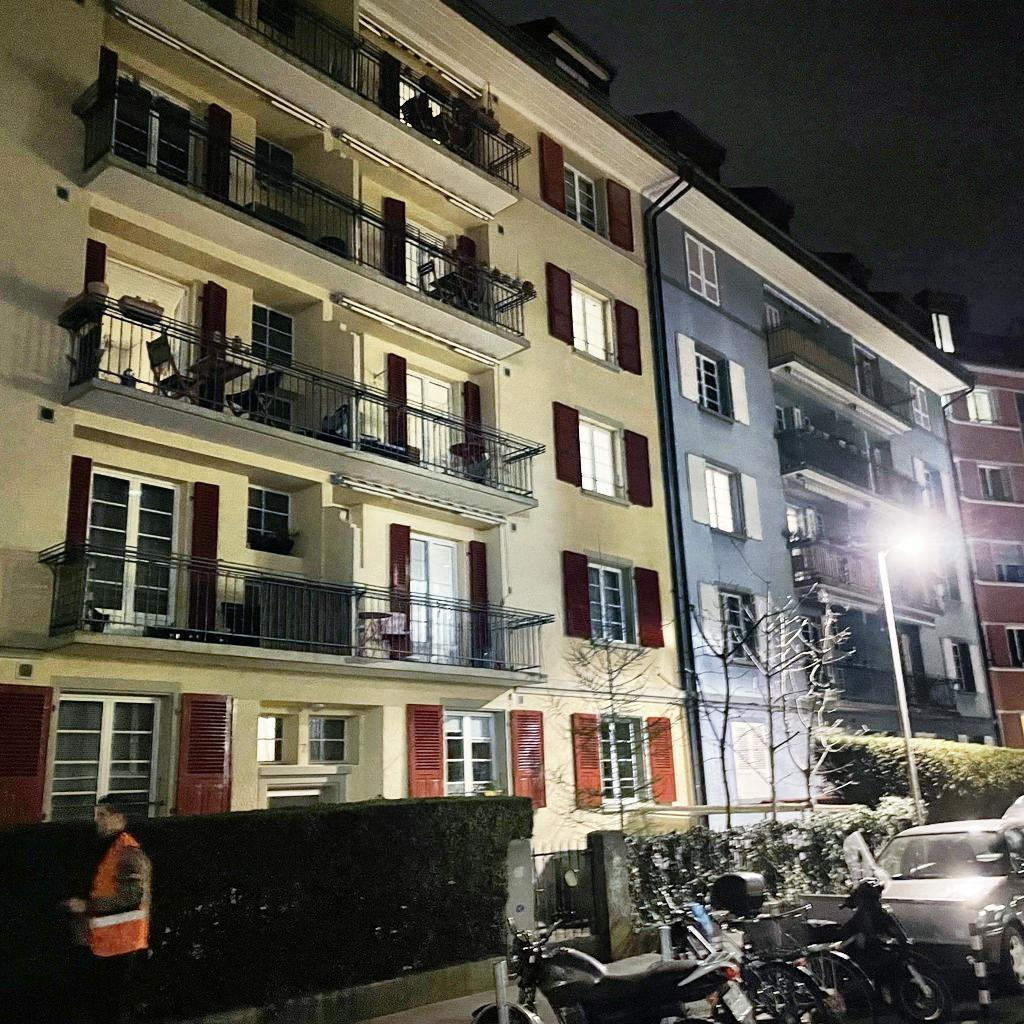balcony-fence: (71, 71, 539, 339), (57, 291, 546, 501), (36, 536, 556, 676), (199, 0, 533, 198), (765, 322, 917, 430), (776, 427, 922, 513), (788, 539, 946, 616), (805, 657, 956, 711)
car: (850, 820, 1024, 1002)
fence: (177, 828, 686, 1024)
street: (360, 919, 1024, 1024)
vegetation: (529, 525, 1024, 932), (0, 793, 534, 1024)
window: (77, 465, 181, 638), (49, 690, 161, 820), (98, 255, 191, 402), (111, 72, 192, 188), (410, 539, 459, 664), (407, 370, 456, 475), (445, 710, 497, 796), (400, 78, 454, 150), (406, 234, 454, 305), (249, 300, 295, 374), (247, 483, 293, 555), (579, 420, 619, 498), (254, 133, 296, 200), (571, 283, 606, 362), (685, 231, 720, 308), (706, 461, 740, 539), (564, 160, 597, 234), (719, 590, 749, 661), (308, 717, 347, 763), (695, 350, 722, 414), (802, 616, 826, 684), (257, 0, 295, 39), (256, 715, 285, 765), (976, 464, 1009, 500), (930, 311, 956, 354), (910, 381, 931, 432), (243, 581, 262, 637), (785, 502, 804, 556), (965, 389, 994, 424), (1006, 626, 1024, 668), (951, 643, 965, 691), (994, 563, 1022, 584), (765, 302, 780, 328), (925, 470, 934, 512), (775, 404, 785, 433)
